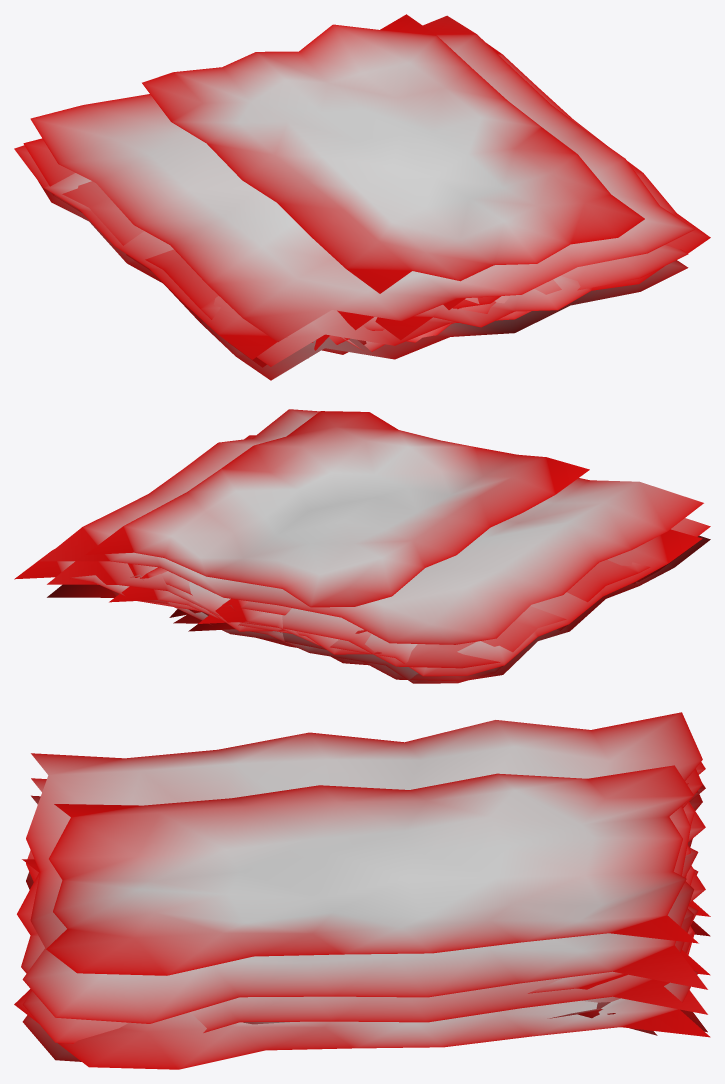
File: cloud.FBX
The picture shows the model from 3 angles, top to bottom: view 1: azimuth 30°, elevation 25°; view 2: azimuth 150°, elevation 25°; view 3: azimuth 270°, elevation 25°; orthographic projection. The views are drawn at different scales.
Visible parts, largest first — view 1: yunceng001; view 2: yunceng001; view 3: yunceng001.
Boxes of the visible parts, <box> form: yunceng001: <box>14,14,710,380</box>; yunceng001: <box>14,409,710,683</box>; yunceng001: <box>14,712,710,1069</box>.
Size of the model in its own units: 18340 by 3801 by 18323.
